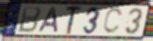3: (81, 6, 103, 36), (124, 7, 143, 36)
A: (37, 7, 59, 34)
B: (17, 5, 43, 34)
C: (102, 7, 125, 36)
T: (65, 5, 84, 36)
